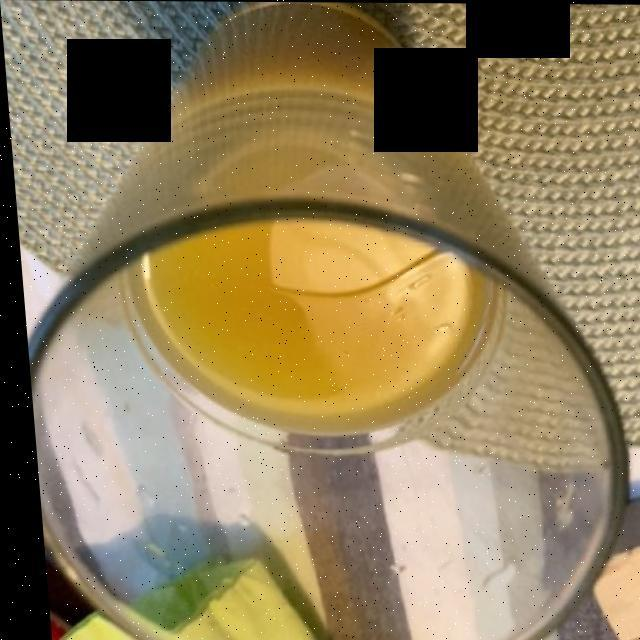juice: (124, 3, 491, 426)
